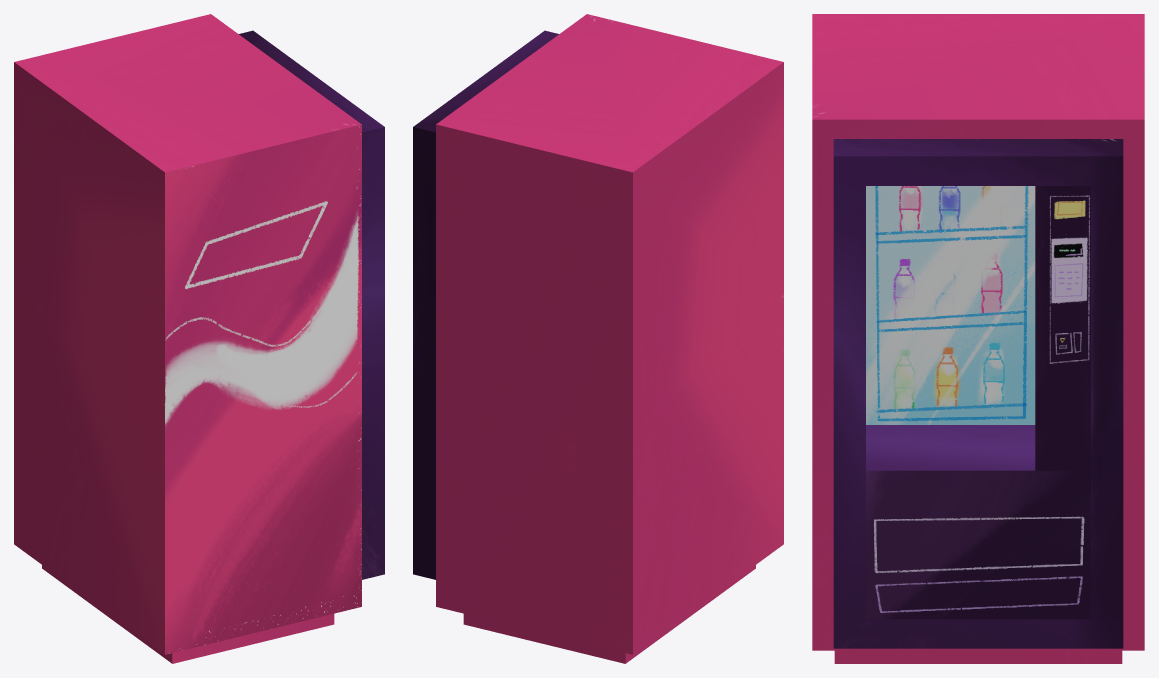
The model's file is vending_machine.obj.
3 views of the same model, side by side, from view 1: azimuth 30°, elevation 25°; view 2: azimuth 150°, elevation 25°; view 3: azimuth 270°, elevation 25° (orthographic). The views are drawn at different scales.
Parts seen in each view (by area): view 1: vending_machine_Cube.018; view 2: vending_machine_Cube.018; view 3: vending_machine_Cube.018.
Boxes of the visible parts, box(x1,y1,x2,y2) form: vending_machine_Cube.018: box(14, 14, 384, 663); vending_machine_Cube.018: box(413, 14, 783, 663); vending_machine_Cube.018: box(812, 14, 1144, 663).
Size of the model in its own units: 4.7 by 9.85 by 5.36.
